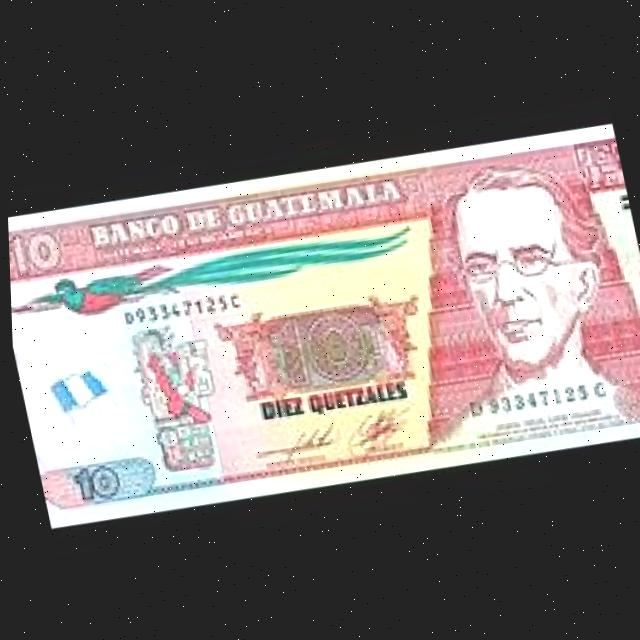banknote: (3, 107, 640, 536)
